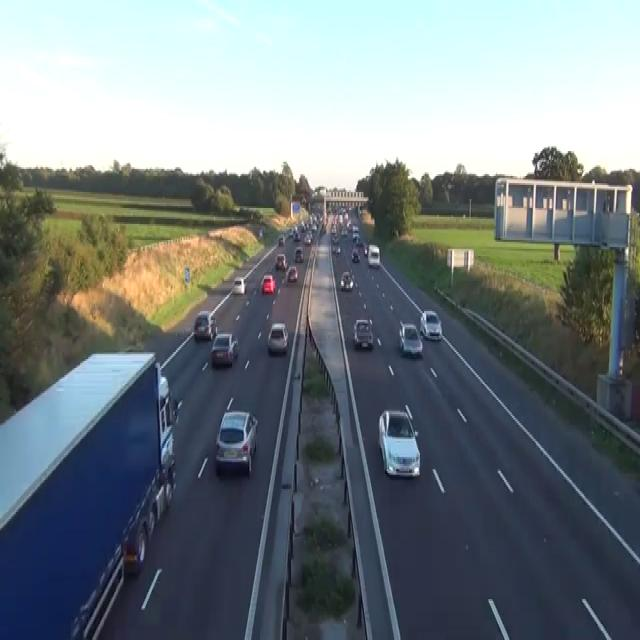Car: (122, 464, 175, 574), (214, 409, 258, 475), (378, 409, 420, 478), (159, 375, 181, 423), (210, 332, 238, 368), (398, 322, 422, 357), (419, 310, 442, 340), (267, 322, 288, 354), (352, 318, 373, 350), (194, 310, 216, 340), (260, 272, 276, 293), (170, 395, 182, 423), (367, 244, 380, 266), (340, 270, 353, 290), (232, 276, 246, 294), (275, 252, 287, 270), (286, 265, 298, 281), (294, 247, 303, 261), (351, 247, 360, 261), (352, 231, 360, 244), (331, 231, 339, 244), (332, 244, 340, 254), (303, 233, 311, 243), (278, 235, 285, 245), (293, 231, 300, 240), (363, 244, 368, 256), (347, 219, 353, 229), (340, 226, 347, 234), (355, 234, 361, 243), (320, 224, 326, 233), (331, 224, 337, 233), (300, 196, 306, 204), (287, 230, 293, 238), (352, 224, 358, 231), (311, 224, 317, 231), (258, 228, 262, 238)
Truck: (0, 348, 177, 638)
